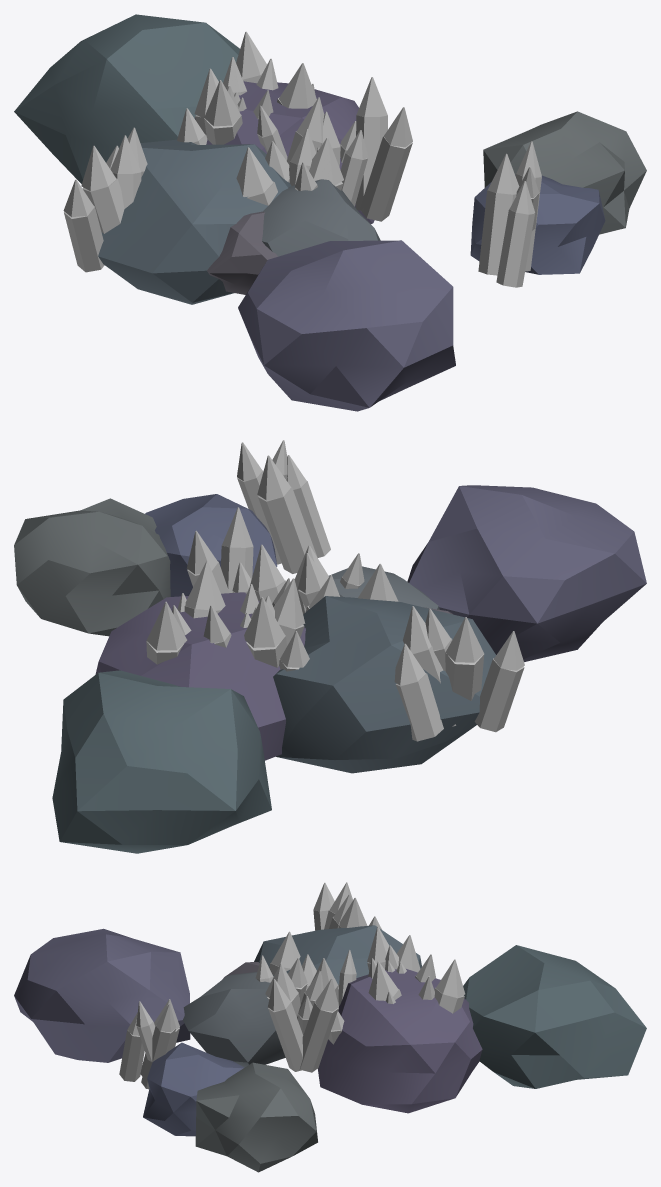
File: dep_diamond_3.glb
3 views of the same model, one above another, from view 1: azimuth 30°, elevation 25°; view 2: azimuth 150°, elevation 25°; view 3: azimuth 270°, elevation 25° (orthographic). The views are drawn at different scales.
Parts seen in each view (by area): view 1: rock_diamond, crystal_diamond; view 2: rock_diamond, crystal_diamond; view 3: rock_diamond, crystal_diamond.
Boxes of the visible parts, x1,y1,x2,y2 form: rock_diamond: (14,14,646,411); crystal_diamond: (63,31,541,287); rock_diamond: (14,485,646,853); crystal_diamond: (146,440,524,741); rock_diamond: (14,925,646,1172); crystal_diamond: (119,882,465,1089).
Bounding box in the file's own units: 8.14 × 2.51 × 10.7.
